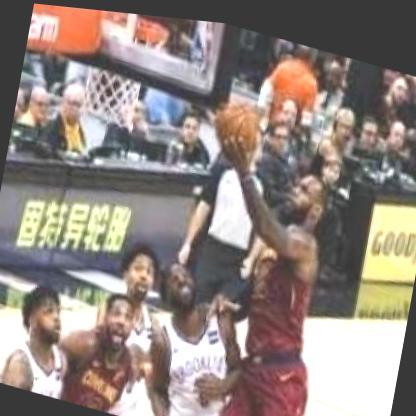basketball: (210, 82, 268, 150)
